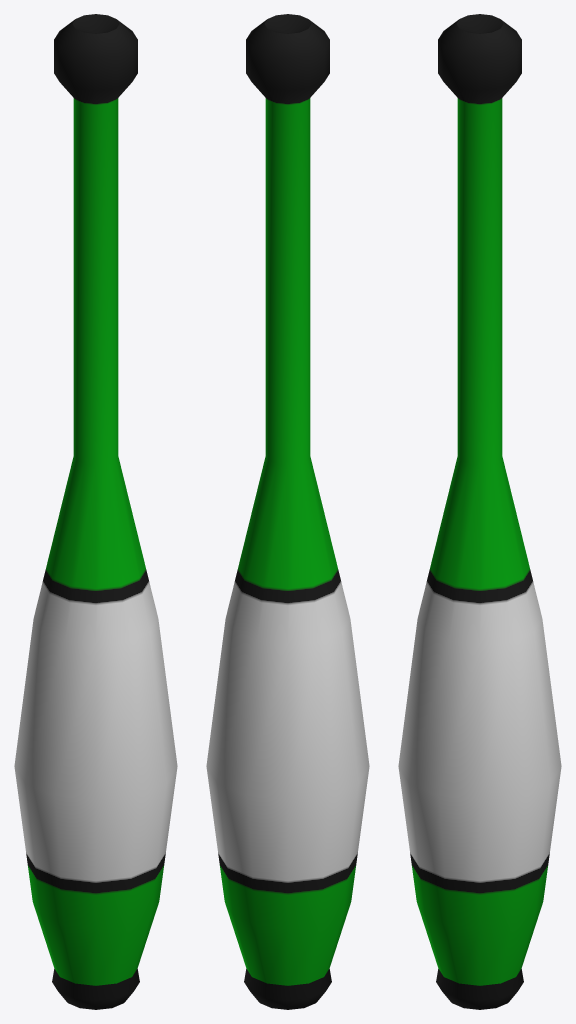
The model's file is Pingreen.fbx.
The picture shows the model from 3 angles, left to right: view 1: azimuth 30°, elevation 25°; view 2: azimuth 150°, elevation 25°; view 3: azimuth 270°, elevation 25°; orthographic projection.
Parts seen in each view (by area): view 1: Pin_Green; view 2: Pin_Green; view 3: Pin_Green.
Boxes of the visible parts, left/top/right/bottom form: Pin_Green: left=14, top=14, right=177, bottom=1009; Pin_Green: left=206, top=14, right=369, bottom=1009; Pin_Green: left=398, top=14, right=561, bottom=1009.
Size of the model in its own units: 14.29 by 93.97 by 14.29.
